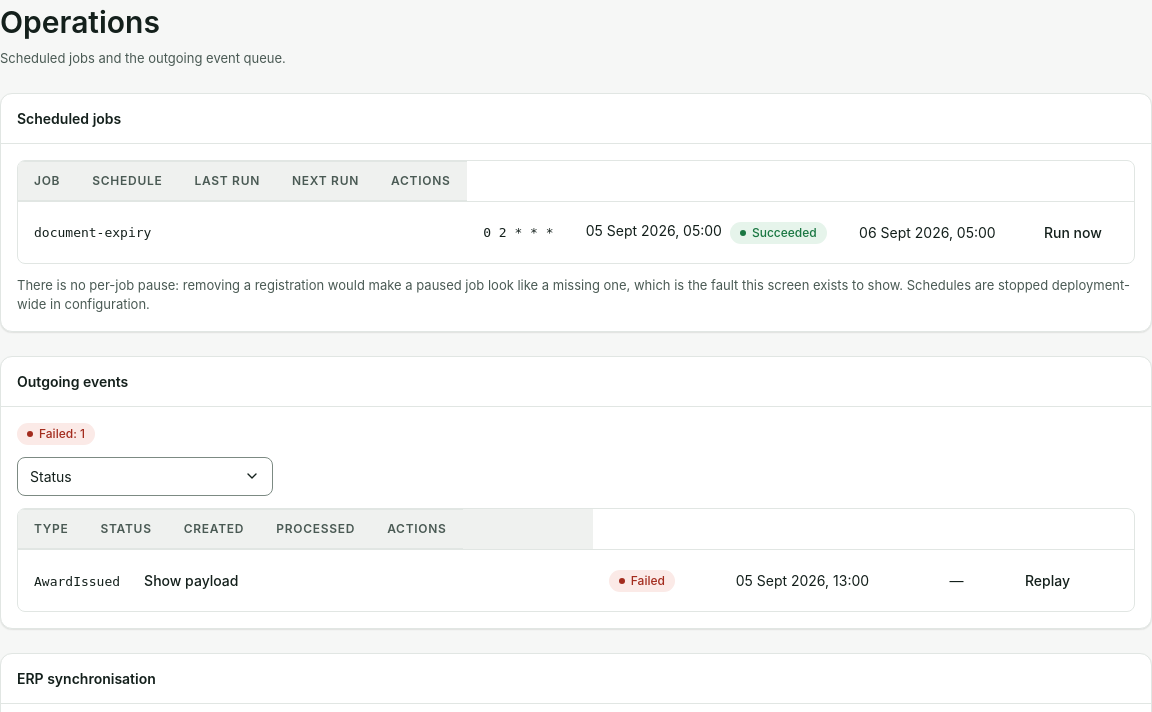
it: OperationsPage (SCR-721) › keeps the payload behind a toggle
Expected: the text "\"awardId\"" is not shown
Click the button "Show payload".
click(191, 580)  # box [128, 562, 254, 598]
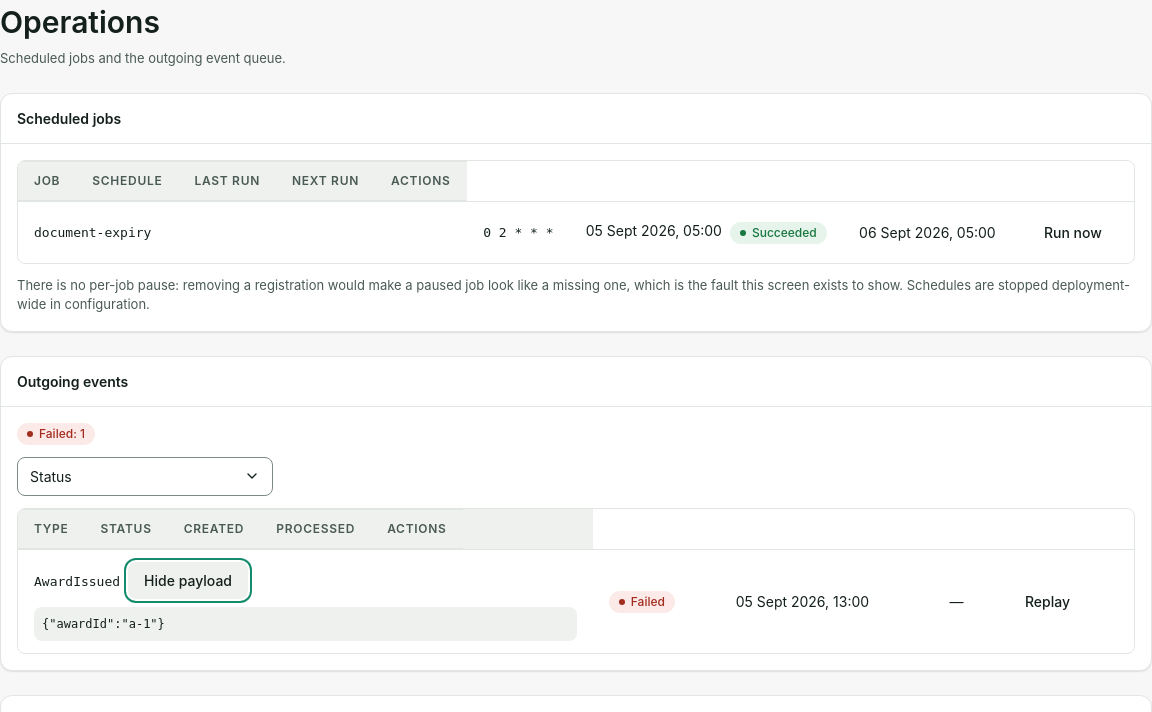
Expected: the text "{\"awardId\":\"a-1\"}" is shown, [34, 606, 577, 640]
